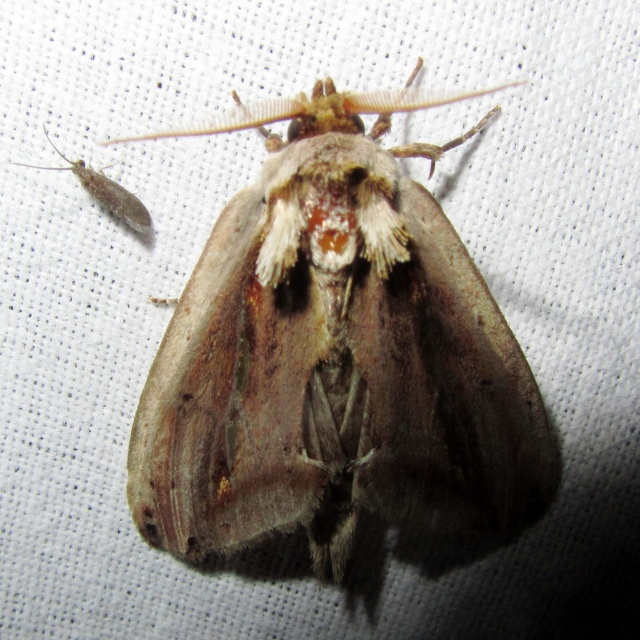Moths and butterflies: (94, 54, 568, 619), (5, 120, 153, 238)
